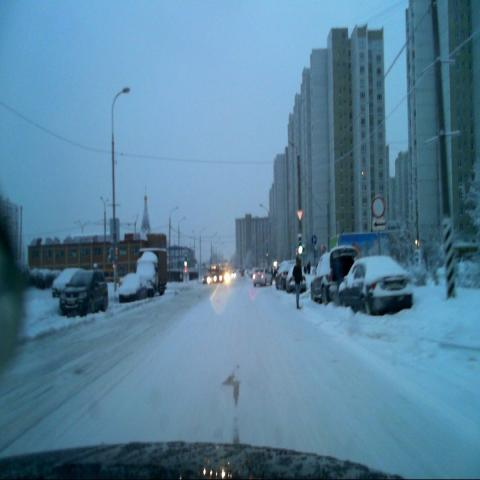3_2: (371, 193, 385, 216)
